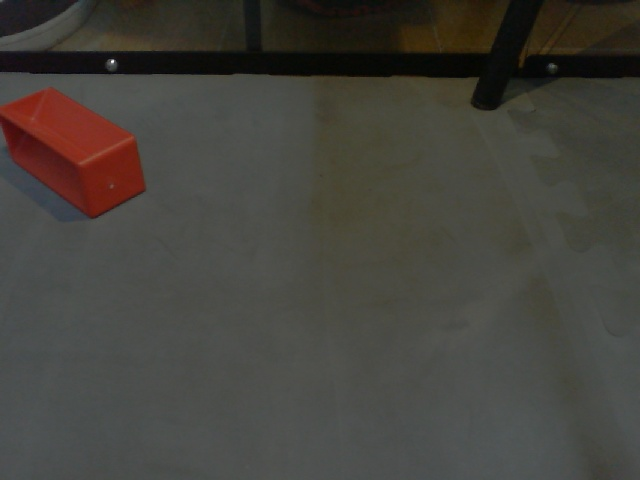RedSample: (1, 84, 146, 222)
